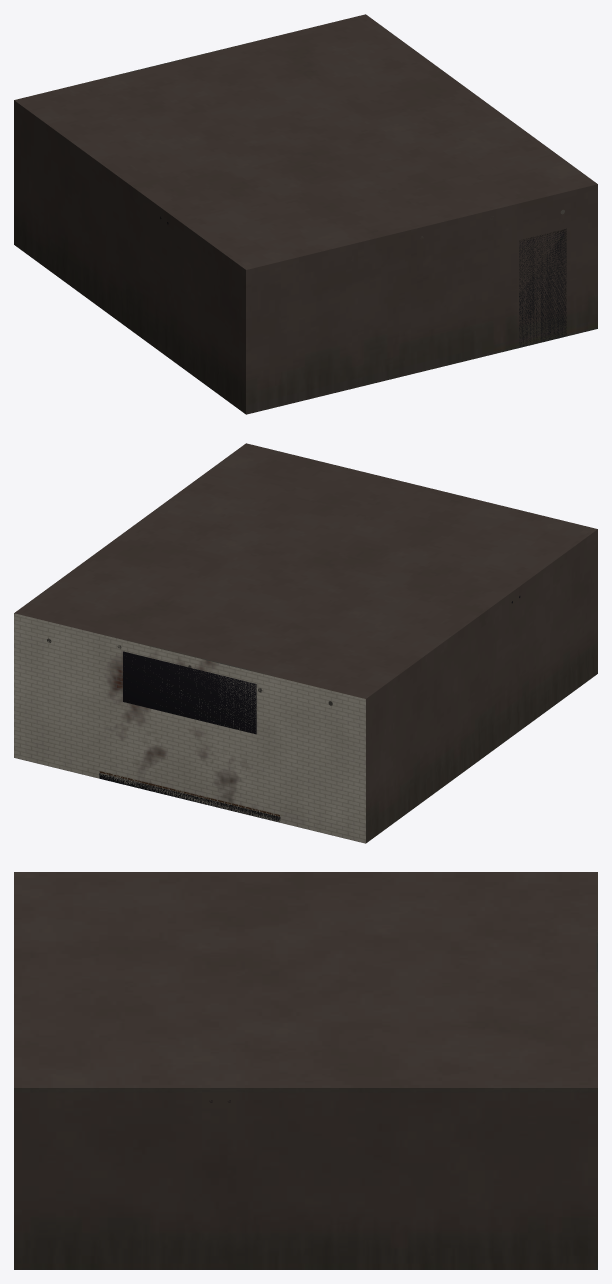
File: club-basement-open-mic.glb
The picture shows the model from 3 angles, top to bottom: view 1: azimuth 30°, elevation 25°; view 2: azimuth 150°, elevation 25°; view 3: azimuth 270°, elevation 25°; orthographic projection. The views are drawn at different scales.
Parts seen in each view (by area): view 1: club_house; view 2: club_house, club_wall, club_neon_board, club_stage; view 3: club_house.
Boxes of the visible parts, <box> form: club_house: <box>14,14,597,414</box>; club_house: <box>14,443,597,843</box>; club_wall: <box>14,613,365,843</box>; club_neon_board: <box>123,651,256,734</box>; club_stage: <box>99,771,280,822</box>; club_house: <box>14,872,597,1269</box>.
Size of the model in its own units: 7 by 3.18 by 8.
Materials: 17 (6 with a texture image).
